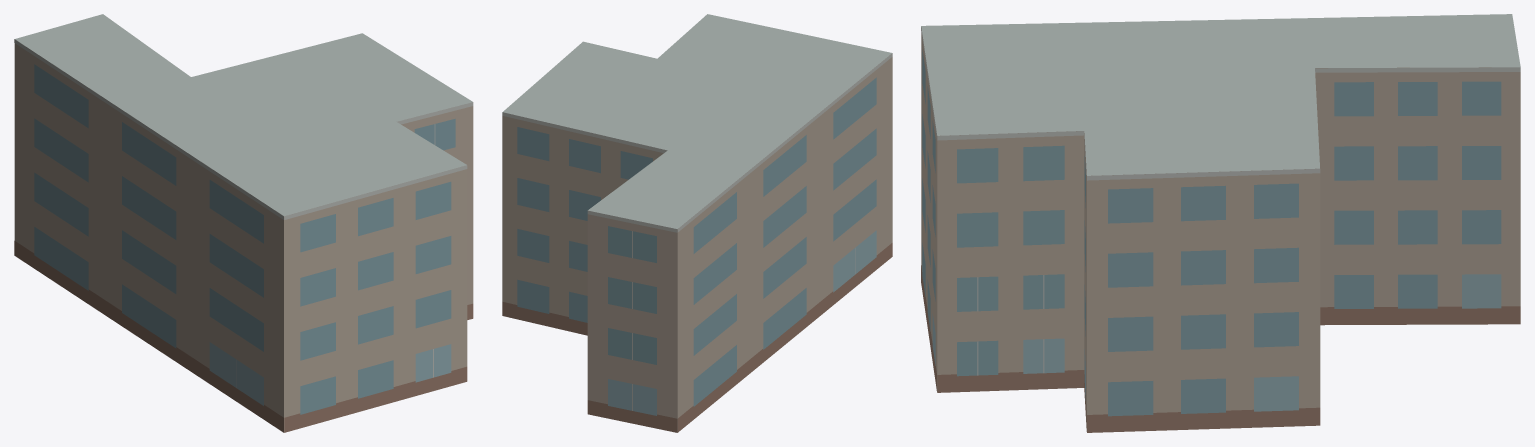
Rendered from survey-upis-32471465.glb.
3 views of the same model, side by side, from view 1: azimuth 30°, elevation 25°; view 2: azimuth 150°, elevation 25°; view 3: azimuth 270°, elevation 25° (orthographic). The views are drawn at different scales.
Parts seen in each view (by area): view 1: survey-upis-32471465.tmp; view 2: survey-upis-32471465.tmp; view 3: survey-upis-32471465.tmp.
Part boxes in pixels (x1=…): survey-upis-32471465.tmp: x1=14, y1=14, x2=473, y2=432; survey-upis-32471465.tmp: x1=502, y1=14, x2=892, y2=432; survey-upis-32471465.tmp: x1=921, y1=14, x2=1520, y2=432.
Size of the model in its own units: 18.39 by 13.6 by 28.77.
